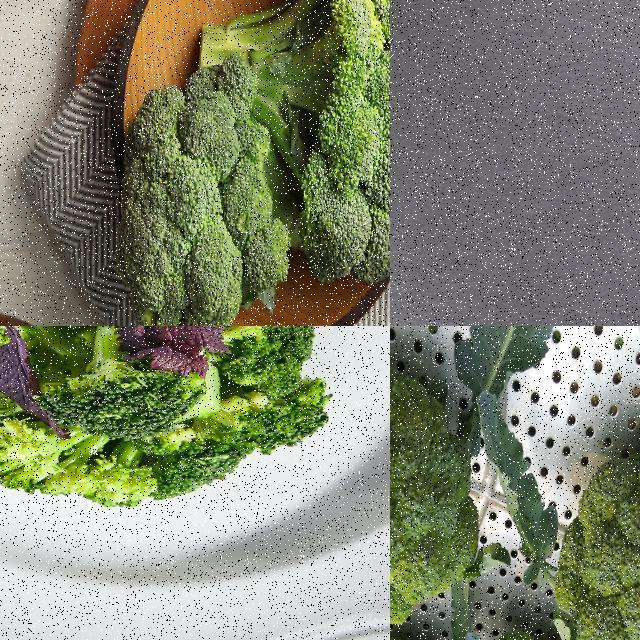broccoli: (199, 0, 389, 288), (119, 57, 286, 325), (390, 372, 478, 634), (45, 326, 212, 441), (551, 445, 639, 639)
